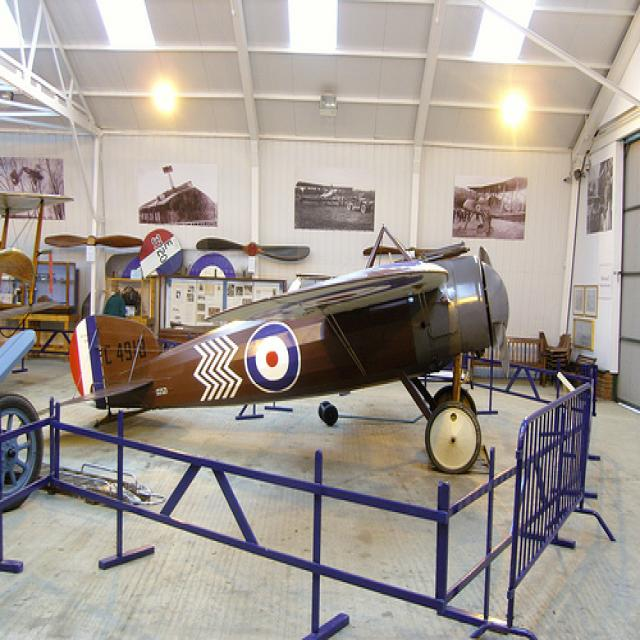aeroplane: (69, 206, 512, 475), (463, 177, 530, 242), (295, 184, 353, 211)
